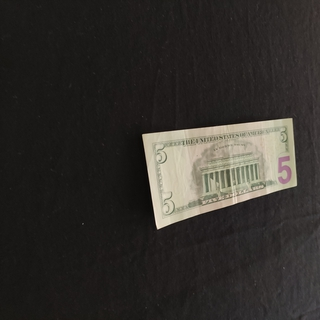5USDBack: (141, 117, 297, 230)
